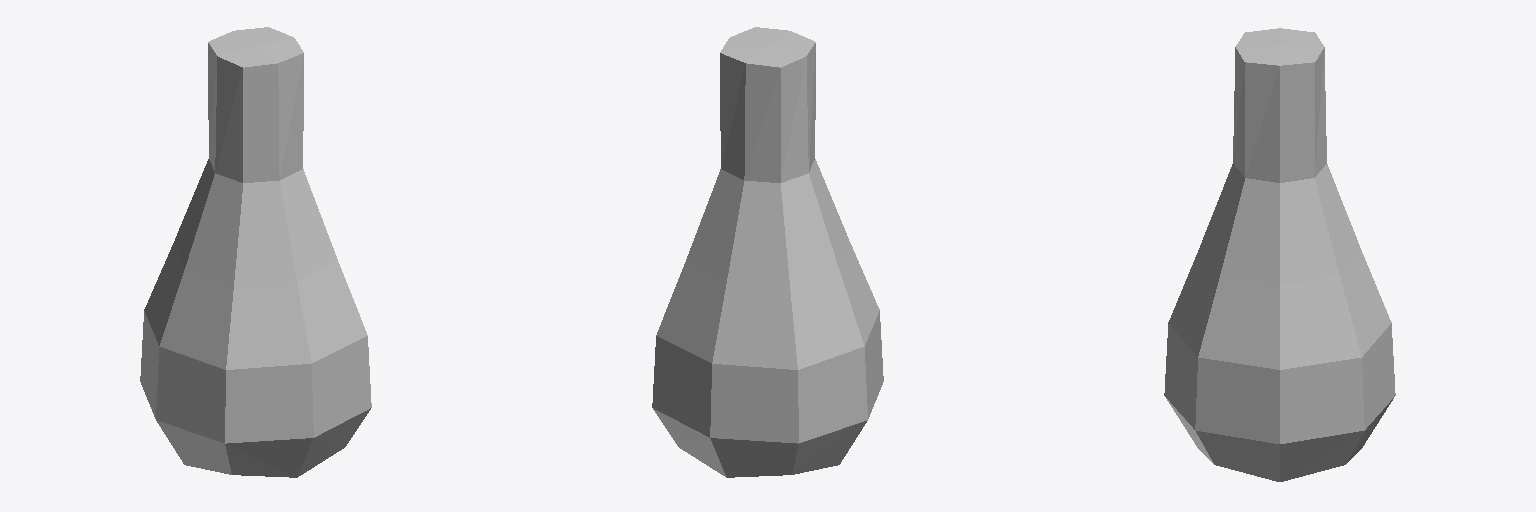
Rendered from lightbulb_mesh.obj.
3 views of the same model, side by side, from view 1: azimuth 30°, elevation 25°; view 2: azimuth 150°, elevation 25°; view 3: azimuth 270°, elevation 25° (orthographic).
Visible parts, largest first — view 1: lightbulb_mesh; view 2: lightbulb_mesh; view 3: lightbulb_mesh.
Boxes of the visible parts, <box> form: lightbulb_mesh: <box>140,27,371,477</box>; lightbulb_mesh: <box>652,27,883,477</box>; lightbulb_mesh: <box>1164,28,1395,481</box>.
Size of the model in its own units: 0.0981 by 0.1962 by 0.0981.